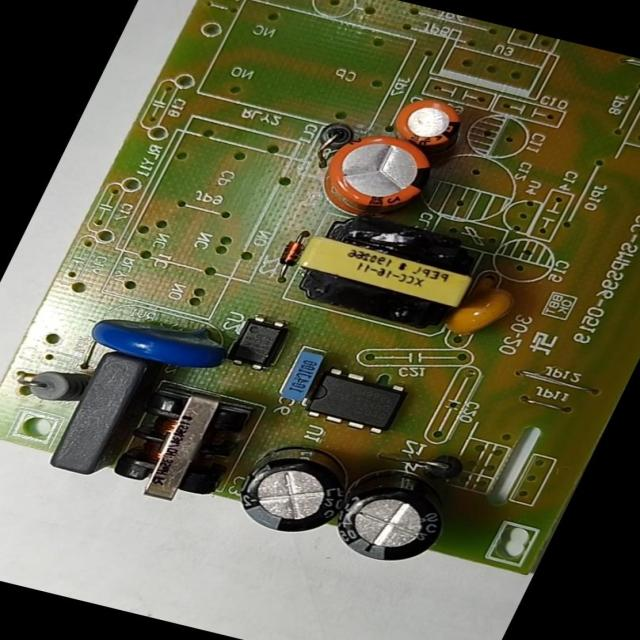Cap1: (302, 123, 454, 232)
Cap2: (383, 92, 475, 155)
Cap3: (213, 434, 368, 548)
Cap4: (316, 454, 473, 572)
MOSFET: (299, 362, 422, 439)
Mov: (80, 299, 248, 386)
Resistor: (14, 358, 97, 412)
Transformer: (274, 203, 501, 343), (97, 378, 267, 516)
